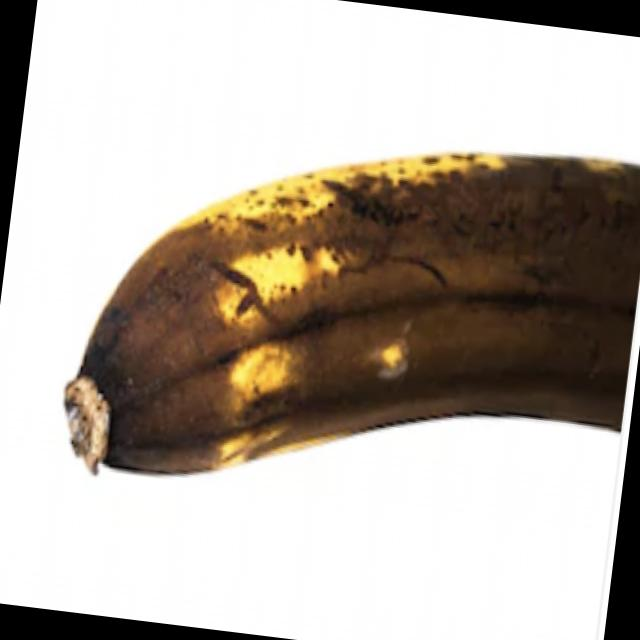rotten-banana: (57, 92, 640, 551)
